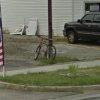Bicycle: (27, 30, 64, 70)
